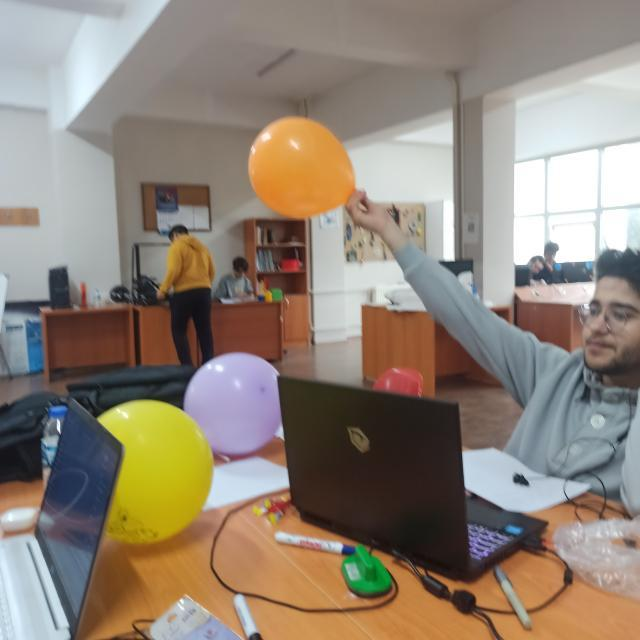balloon: (246, 116, 359, 220)
